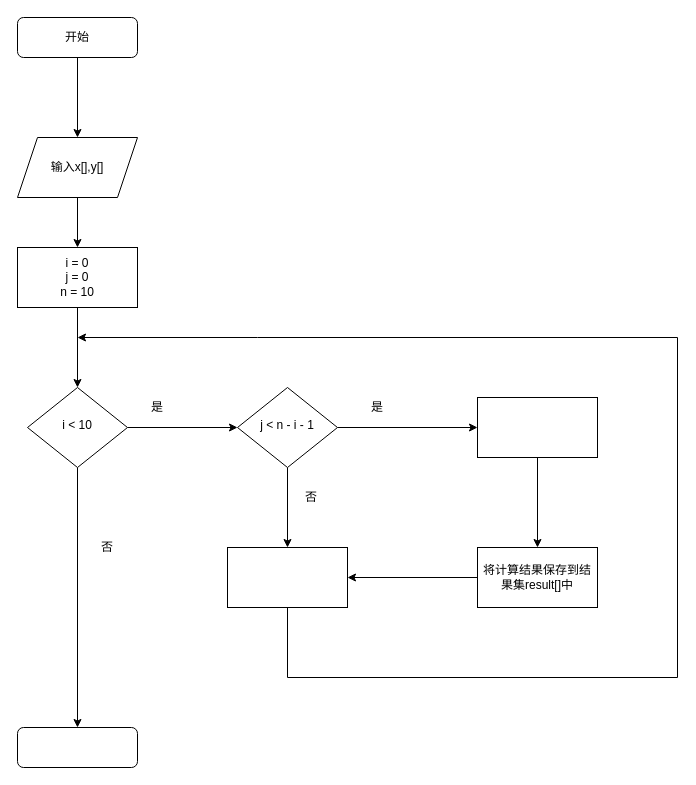
Image size: 696x785. Some labels were removed from this diagram. Here are the shapes that lost their labels. From the top down, the centre of each, then its label:
point (537, 427): 计算多项式中的系数 y[j] = (y[j] - y[j + 1]) / (x[j] - x[j + 1 + i])
point (287, 577): i+1 j+1
point (77, 747): 结束
